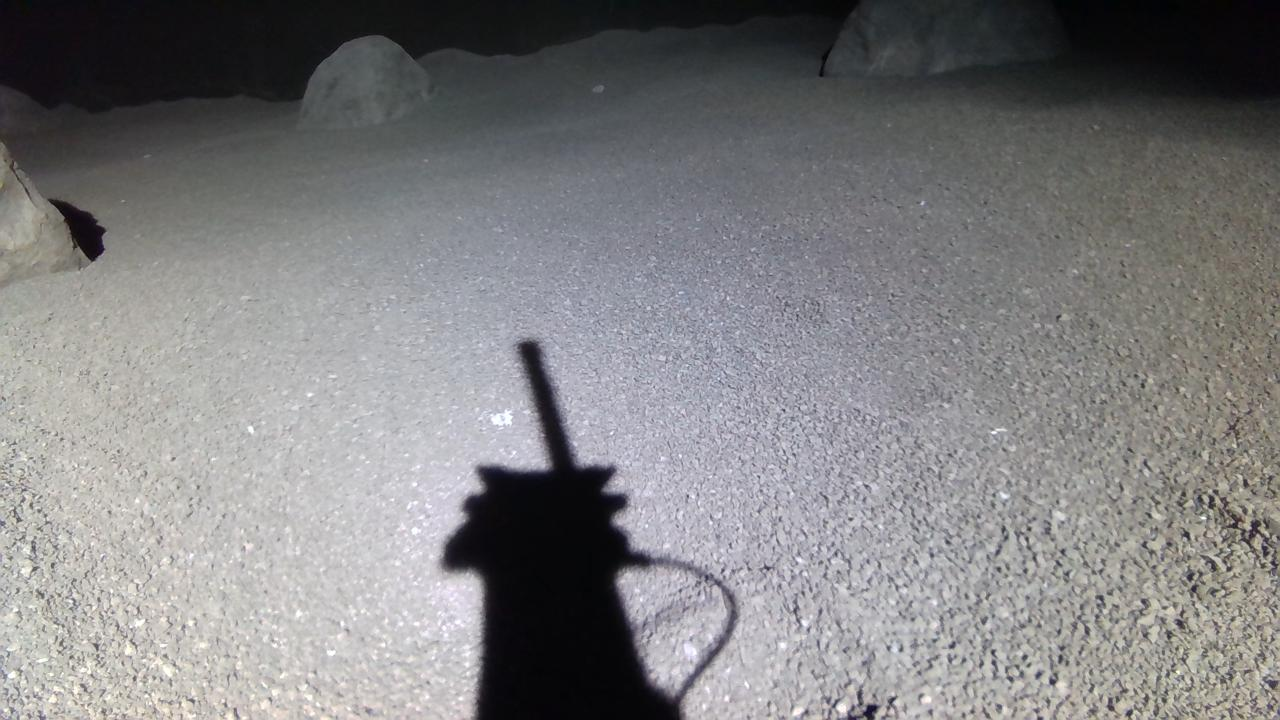rock: (825, 0, 1071, 75), (298, 34, 431, 127)
